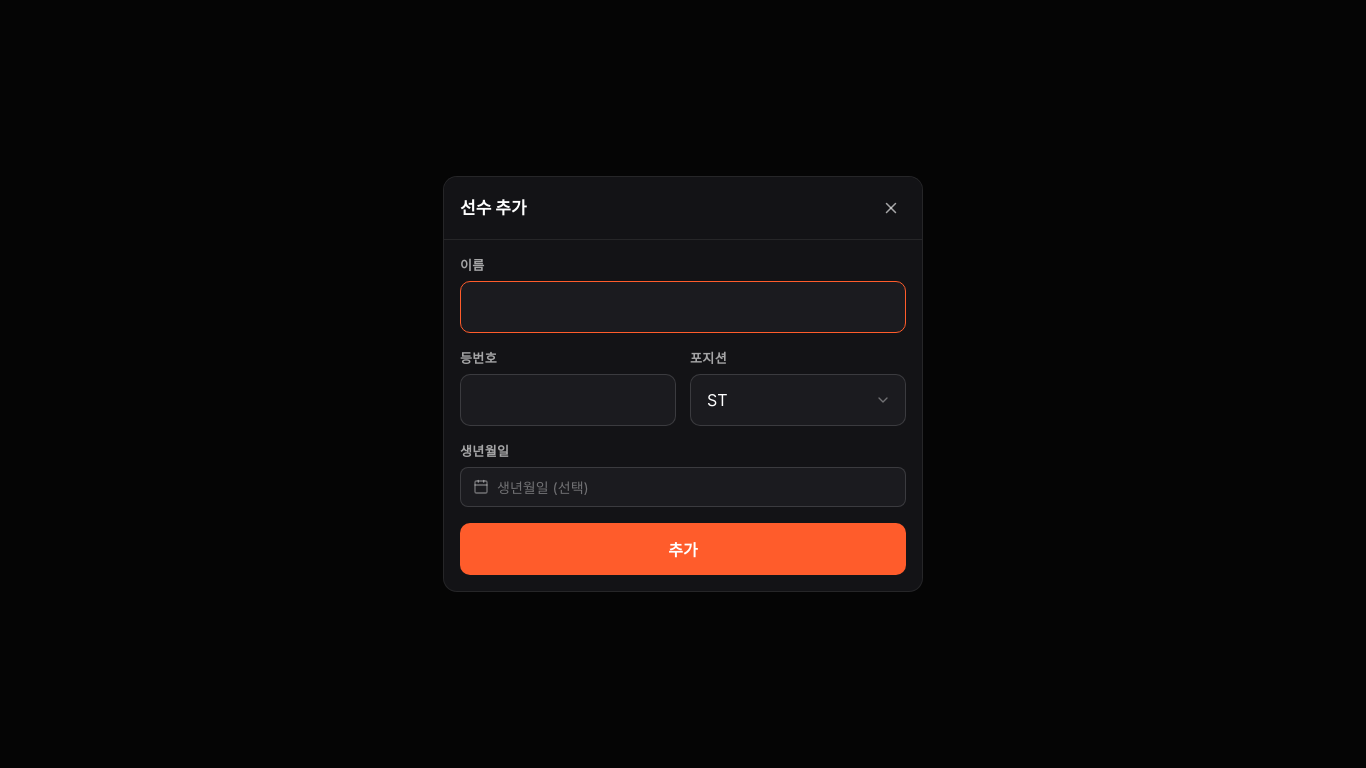
Test: PlayerFormModal › rejects an empty jersey number instead of submitting 0
Type "손흥민" into the field labelled "이름" at [683, 307], box [460,281,906,333]
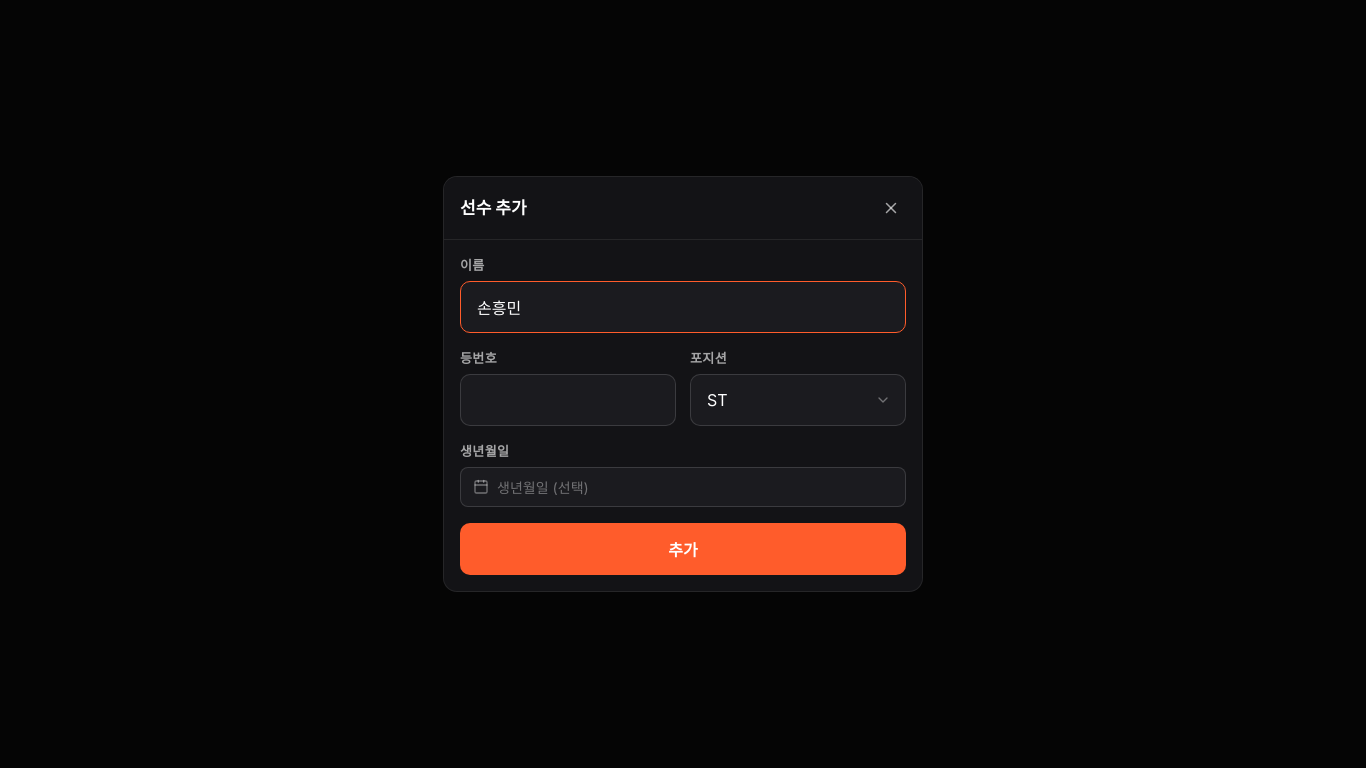
Click the button "추가" at [683, 549], box [460,523,906,575]
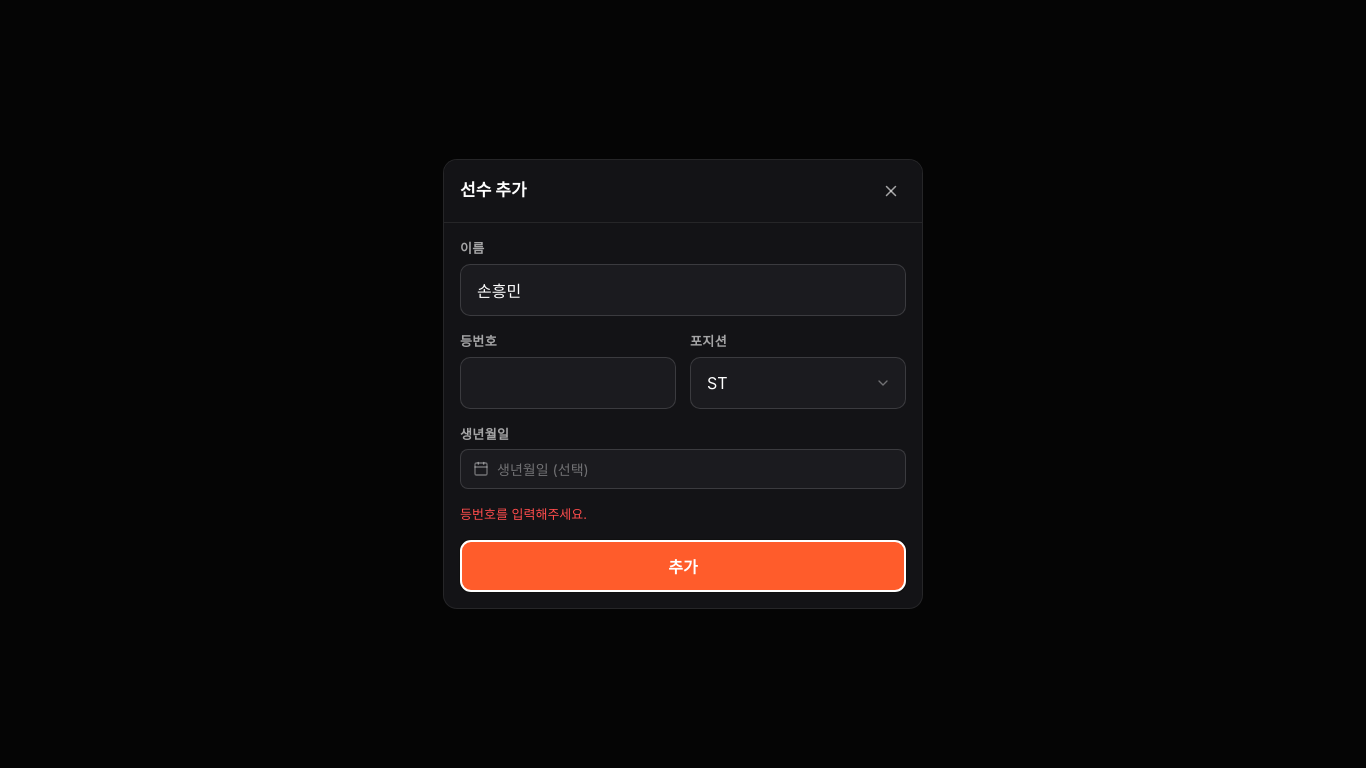
Expected: the text "등번호를 입력해주세요." is shown, [460,506,587,522]
